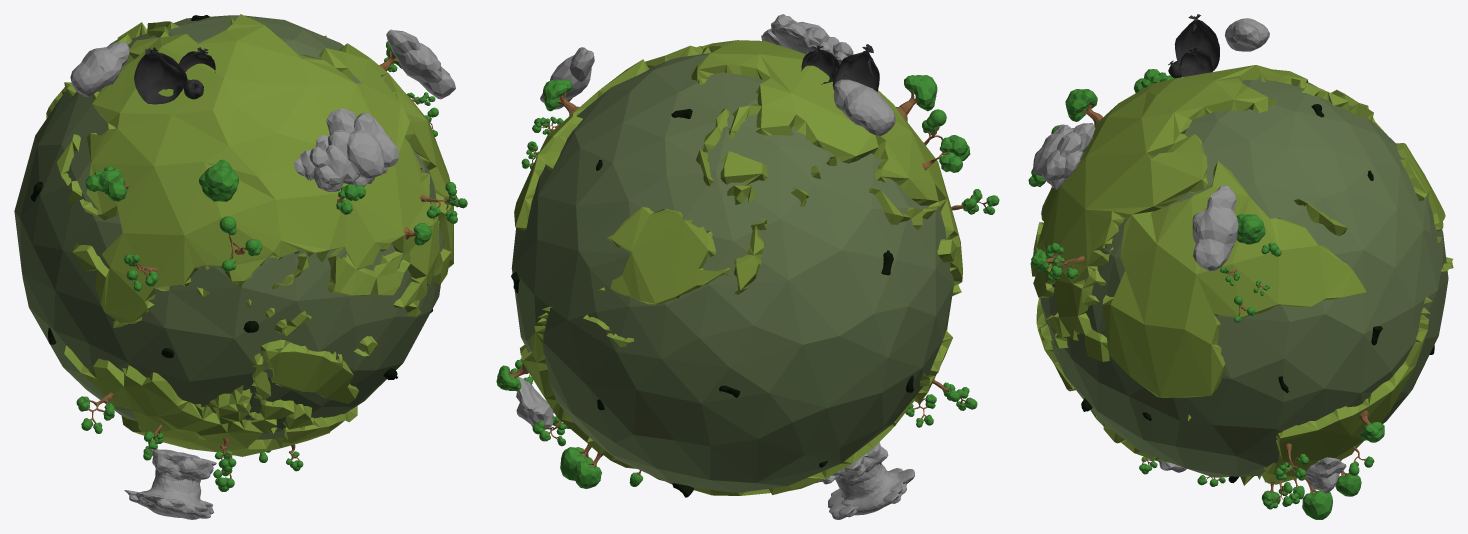
3 renders of one model, left to right at view 1: azimuth 30°, elevation 25°; view 2: azimuth 150°, elevation 25°; view 3: azimuth 270°, elevation 25°, orthographic. The views are drawn at different scales.
Visible parts, largest first — view 1: green_good.001; view 2: green_good.001; view 3: green_good.001.
Part boxes in pixels (bbox=[...]): green_good.001: bbox=[14, 14, 467, 519]; green_good.001: bbox=[496, 14, 999, 519]; green_good.001: bbox=[1028, 14, 1453, 519].
Bounding box in the file's own units: 103 × 116 × 102.
